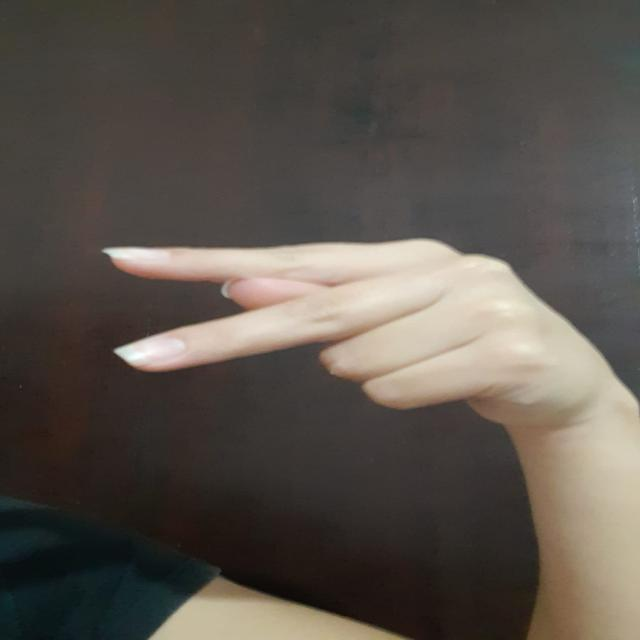P: (96, 230, 619, 420)
